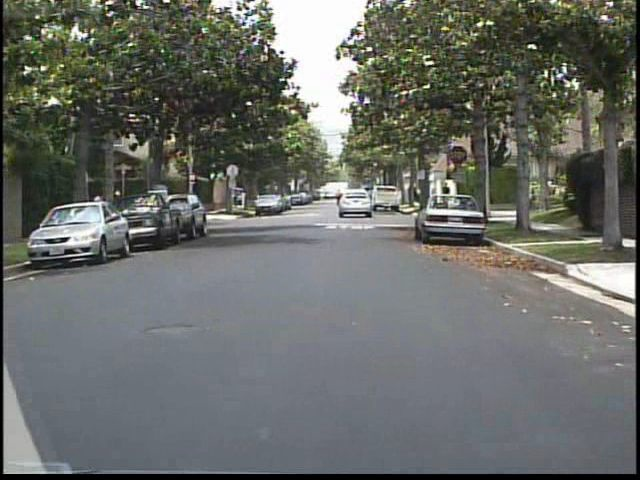person: (92, 188, 112, 236), (437, 178, 454, 213)
